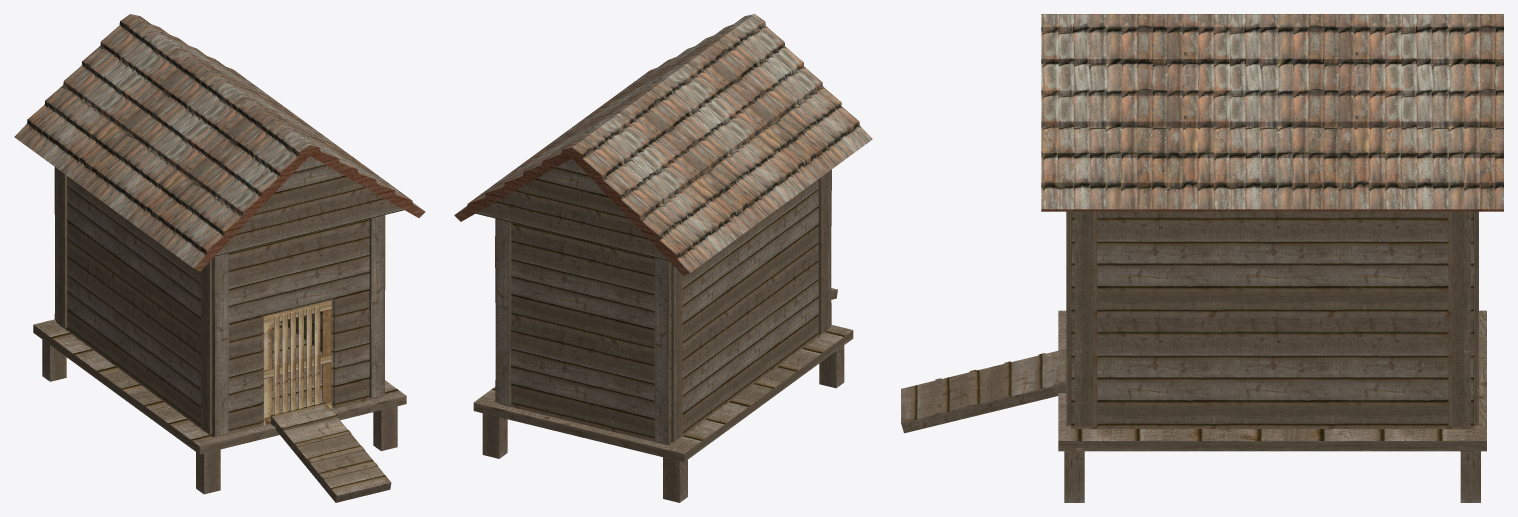
File: Kandang Ayam 1.fbx
3 views of the same model, side by side, from view 1: azimuth 30°, elevation 25°; view 2: azimuth 150°, elevation 25°; view 3: azimuth 270°, elevation 25° (orthographic). The views are drawn at different scales.
Visible parts, largest first — view 1: Plane.003, Plane.001, Cube.011, Plane, Plane.002, Plane.004, Plane.005, Cube.007; view 2: Plane.001, Plane.003, Cube.011, Plane.002, Plane, Cube.007; view 3: Plane.003, Plane.001, Cube.011, Plane, Plane.004, Cube.007.
Boxes of the visible parts, bbox=[...] form: Plane.003: bbox=[14, 14, 425, 271]; Plane.001: bbox=[57, 176, 382, 437]; Cube.011: bbox=[54, 167, 385, 436]; Plane: bbox=[33, 319, 406, 454]; Plane.002: bbox=[215, 156, 404, 256]; Plane.004: bbox=[270, 401, 391, 502]; Plane.005: bbox=[263, 301, 331, 425]; Cube.007: bbox=[42, 339, 397, 494]; Plane.001: bbox=[498, 179, 828, 445]; Plane.003: bbox=[454, 14, 872, 276]; Cube.011: bbox=[495, 169, 831, 443]; Plane.002: bbox=[476, 158, 668, 260]; Plane: bbox=[473, 325, 853, 462]; Cube.007: bbox=[482, 345, 844, 502]; Plane.003: bbox=[1041, 14, 1503, 211]; Plane.001: bbox=[1071, 211, 1474, 428]; Cube.011: bbox=[1066, 211, 1478, 426]; Plane: bbox=[1058, 310, 1486, 451]; Plane.004: bbox=[901, 349, 1066, 433]; Cube.007: bbox=[1064, 451, 1480, 502].
Size of the model in its own units: 224 by 307 by 392.
Materials: 4 (4 with a texture image).
